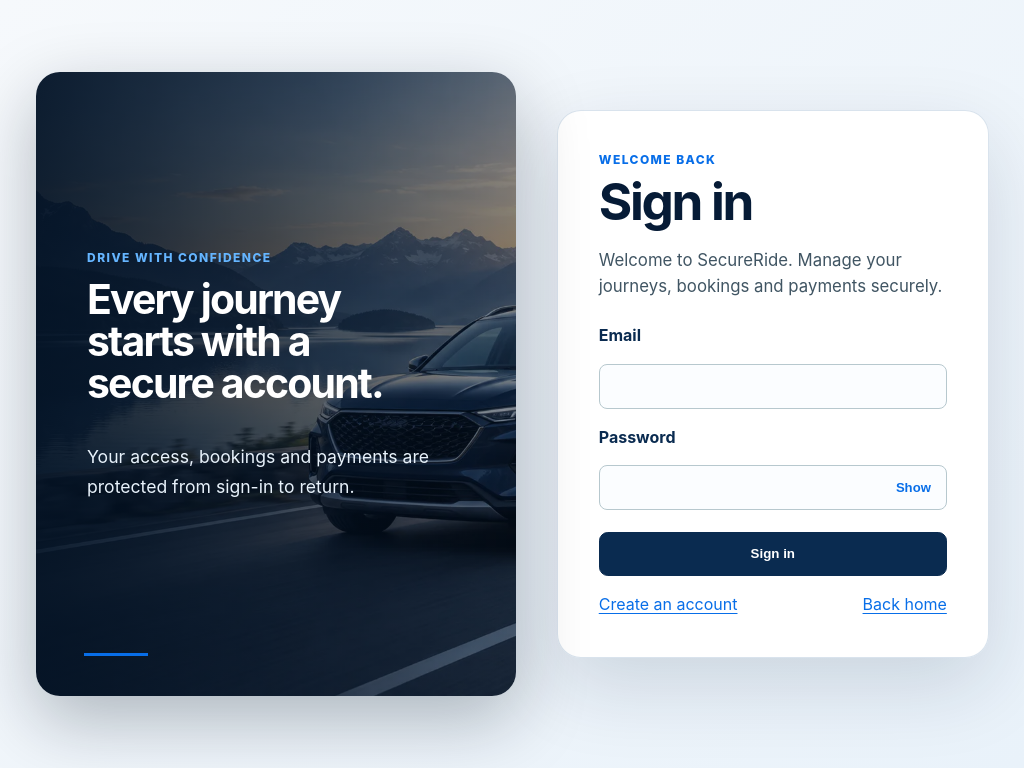
minimal authentication pages › displays a safe generic login error
The width and height of the screenshot is (1024, 768).
Expected: the button "Sign in" is enabled, [599,532,947,576]
In the field labelled "Email": point(773, 386) [599,364,947,408], type "customer@example.invalid"
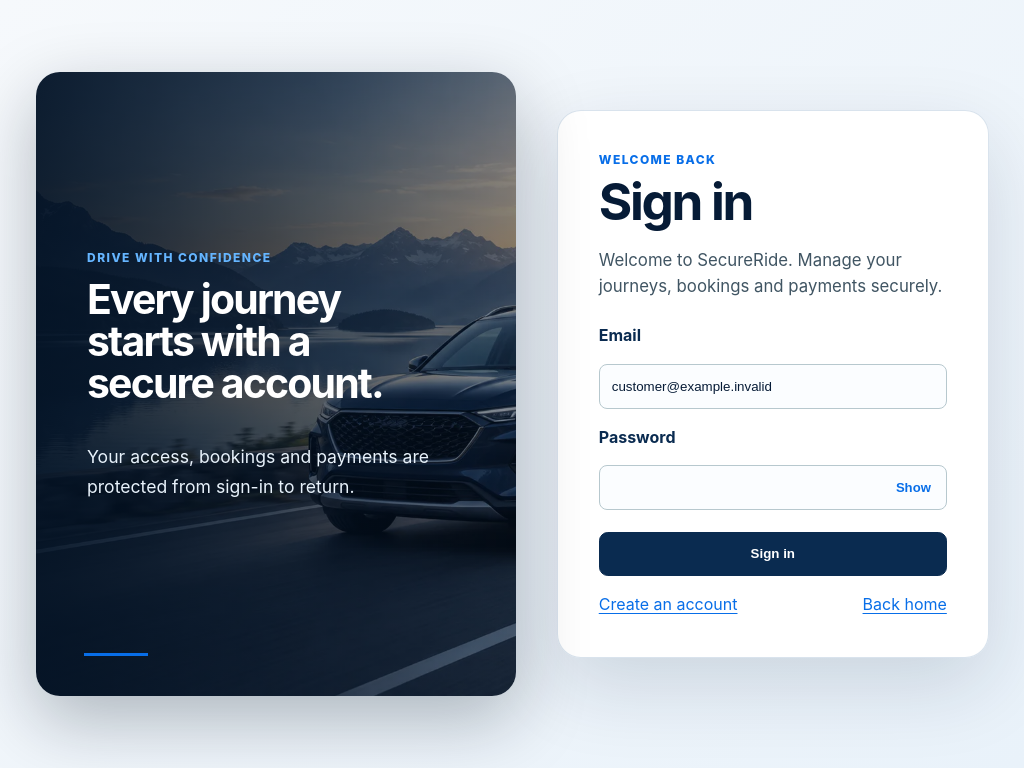
In the password field labelled "Password": point(773, 488) [599,465,947,510], type "a synthetic long passphrase"
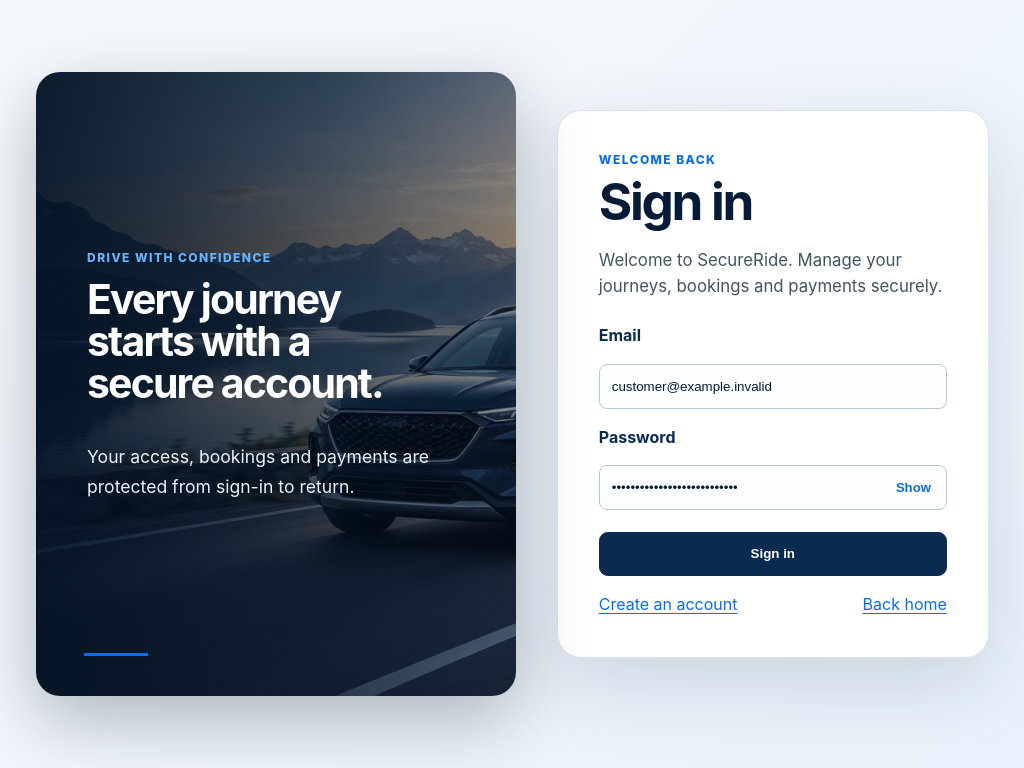
Click the button "Sign in": point(773, 554) [599,532,947,576]
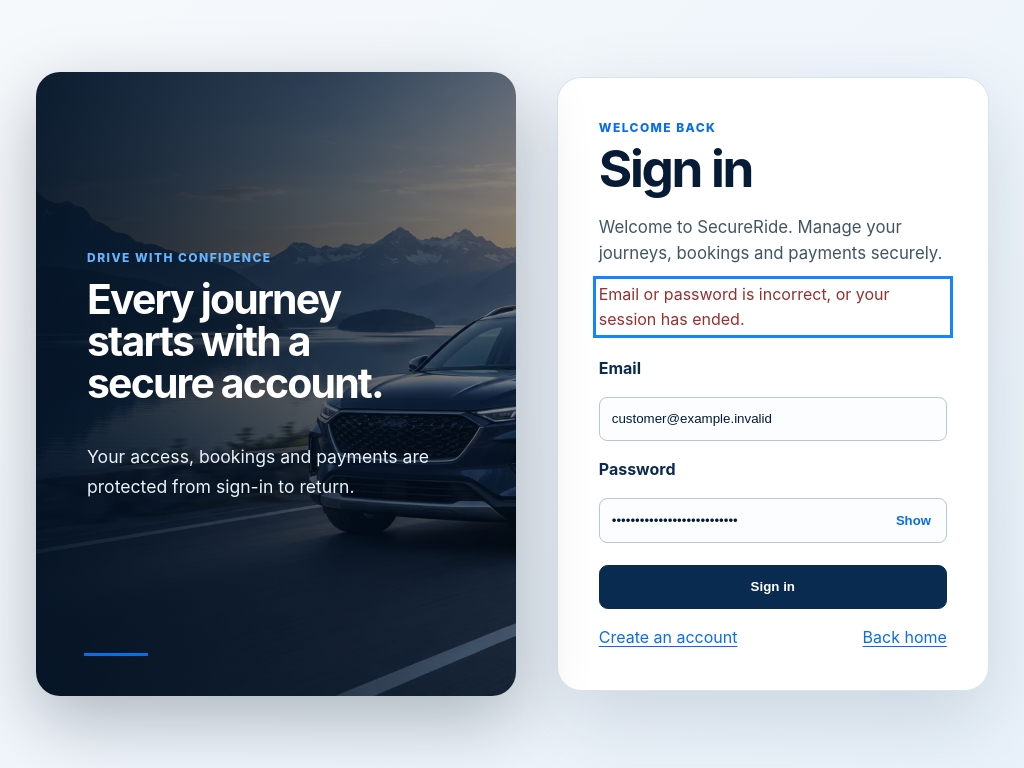
Result: the message shows "Email or password" at [599,284,890,329]
